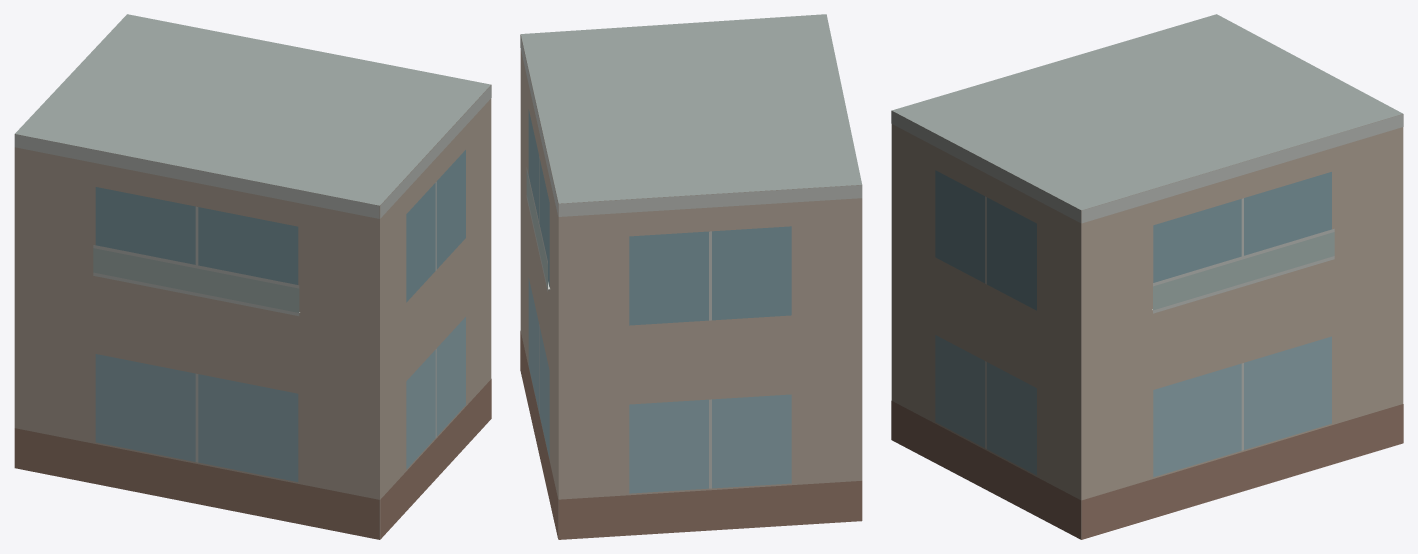
The model's file is survey-upis-32956283.glb.
3 views of the same model, side by side, from view 1: azimuth 30°, elevation 25°; view 2: azimuth 150°, elevation 25°; view 3: azimuth 270°, elevation 25° (orthographic). The views are drawn at different scales.
Visible parts, largest first — view 1: survey-upis-32956283.tmp; view 2: survey-upis-32956283.tmp; view 3: survey-upis-32956283.tmp.
Boxes of the visible parts, box(x1,y1,x2,y2) form: survey-upis-32956283.tmp: box(14, 14, 491, 539); survey-upis-32956283.tmp: box(520, 14, 862, 539); survey-upis-32956283.tmp: box(891, 14, 1403, 539).
Bounding box in the file's own units: 7.81 × 6.1 × 8.6.
